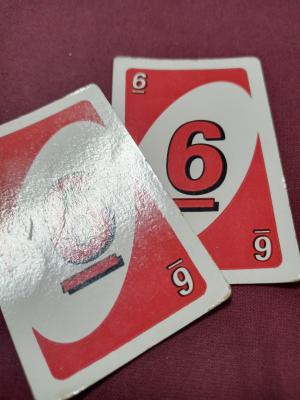num_6: (159, 110, 232, 225), (161, 255, 197, 300), (247, 221, 276, 267), (127, 70, 153, 100)
